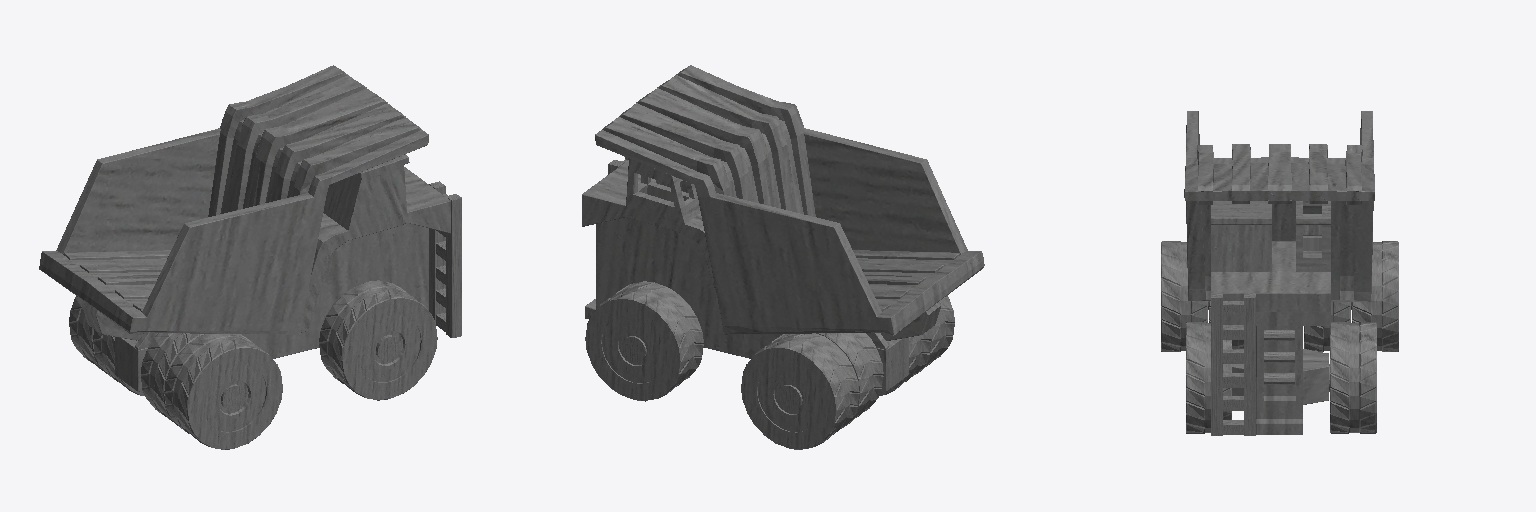
The picture shows the model from 3 angles: view 1: azimuth 30°, elevation 25°; view 2: azimuth 150°, elevation 25°; view 3: azimuth 270°, elevation 25°; orthographic projection.
Visible parts, largest first — view 1: geo pCube2, truck2:pCube1 geo, geo pCylinder6, geo pCylinder10, geo pCylinder9, geo pCube4, geo pCylinder8, geo pCube3, geo pCylinder7, geo pCylinder1; view 2: geo pCube2, truck2:pCube1 geo, geo pCylinder2, geo pCylinder8, geo pCylinder7, geo pCylinder10, geo pCylinder9; view 3: truck2:pCube1 geo, geo pCube2, geo pCylinder2, geo pCylinder10, geo pCylinder8, geo pCylinder6, geo pCube3, geo pCube4, geo pCylinder7.
Boxes of the visible parts, box(x1,y1,x2,y2) form: geo pCube2: box(39, 65, 428, 340); truck2:pCube1 geo: box(115, 154, 450, 391); geo pCylinder6: box(319, 280, 437, 400); geo pCylinder10: box(164, 334, 282, 449); geo pCylinder9: box(141, 333, 241, 425); geo pCube4: box(446, 194, 461, 337); geo pCylinder8: box(69, 296, 106, 373); geo pCube3: box(429, 181, 445, 321); geo pCylinder7: box(93, 329, 144, 395); geo pCylinder1: box(376, 335, 401, 361); geo pCube2: box(595, 65, 984, 340); truck2:pCube1 geo: box(582, 159, 908, 391); geo pCylinder2: box(585, 281, 703, 401); geo pCylinder8: box(741, 333, 859, 449); geo pCylinder7: box(780, 333, 883, 425); geo pCylinder10: box(917, 295, 954, 373); geo pCylinder9: box(880, 329, 930, 395); truck2:pCube1 geo: box(1211, 201, 1330, 434); geo pCube2: box(1184, 111, 1374, 301); geo pCylinder2: box(1330, 322, 1376, 433); geo pCylinder10: box(1161, 241, 1207, 351); geo pCylinder8: box(1352, 241, 1398, 351); geo pCylinder6: box(1186, 322, 1231, 433); geo pCube3: box(1244, 293, 1255, 435); geo pCube4: box(1211, 293, 1222, 435); geo pCylinder7: box(1304, 302, 1350, 351).
Bounding box in the file's own units: 7.22 × 5.23 × 4.32.
Materials: 1 (1 with a texture image).